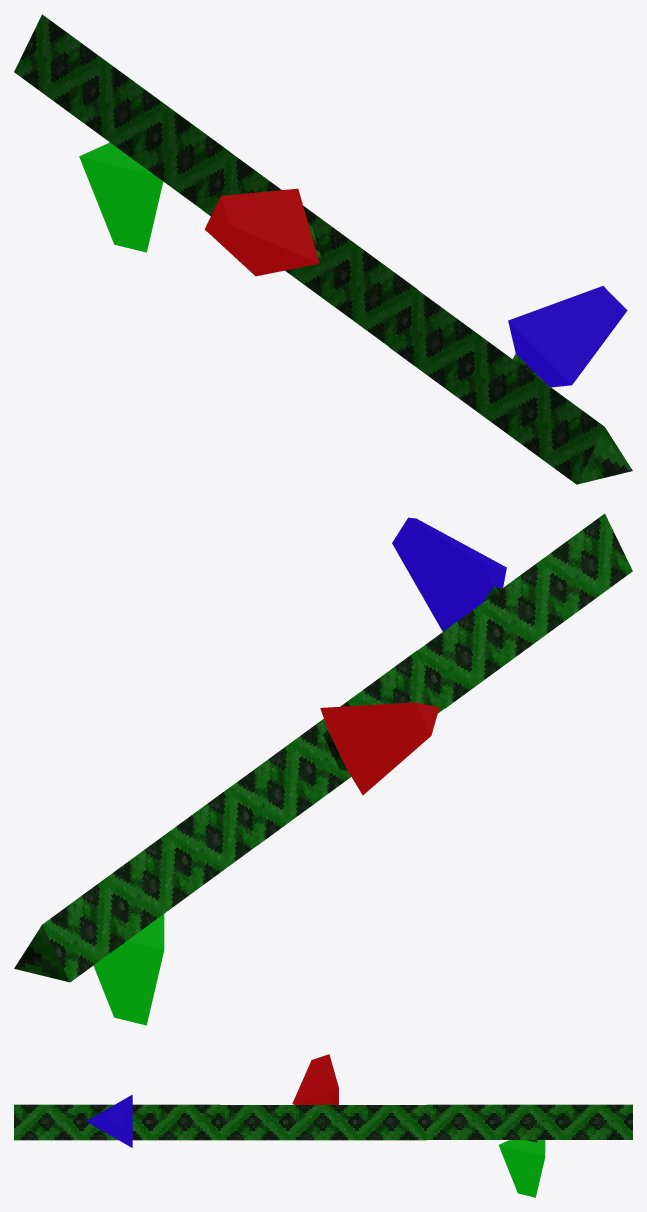
The model's file is xmaslights.glb.
The picture shows the model from 3 angles, top to bottom: view 1: azimuth 30°, elevation 25°; view 2: azimuth 150°, elevation 25°; view 3: azimuth 270°, elevation 25°; orthographic projection. The views are drawn at different scales.
Parts seen in each view (by area): view 1: wire_blue, wire_green, wire_red, bulb_blue, bulb_red, bulb_green; view 2: wire_green, wire_blue, wire_red, bulb_blue, bulb_red, bulb_green; view 3: wire_red, wire_green, wire_blue, bulb_green, bulb_red, bulb_blue.
Part boxes in pixels (left/top/right/bottom): wire_blue: left=389, top=289, right=632, bottom=484; wire_green: left=14, top=14, right=229, bottom=209; wire_red: left=202, top=152, right=417, bottom=346; bulb_blue: left=508, top=286, right=627, bottom=387; bulb_red: left=204, top=188, right=320, bottom=276; bulb_green: left=79, top=142, right=163, bottom=252; wire_green: left=14, top=787, right=257, bottom=982; wire_blue: left=417, top=513, right=632, bottom=708; wire_red: left=229, top=650, right=444, bottom=845; bulb_blue: left=392, top=517, right=506, bottom=631; bulb_red: left=320, top=702, right=439, bottom=795; bulb_green: left=93, top=914, right=164, bottom=1025; wire_red: left=220, top=1105, right=426, bottom=1140; wire_green: left=426, top=1104, right=632, bottom=1139; wire_blue: left=14, top=1104, right=220, bottom=1140; bulb_green: left=498, top=1140, right=545, bottom=1197; bulb_red: left=292, top=1054, right=338, bottom=1104; bulb_blue: left=86, top=1094, right=132, bottom=1147.
Bounding box in the file's own units: 0.0699 × 0.0605 × 0.3.
Materials: 4 (1 with a texture image).
